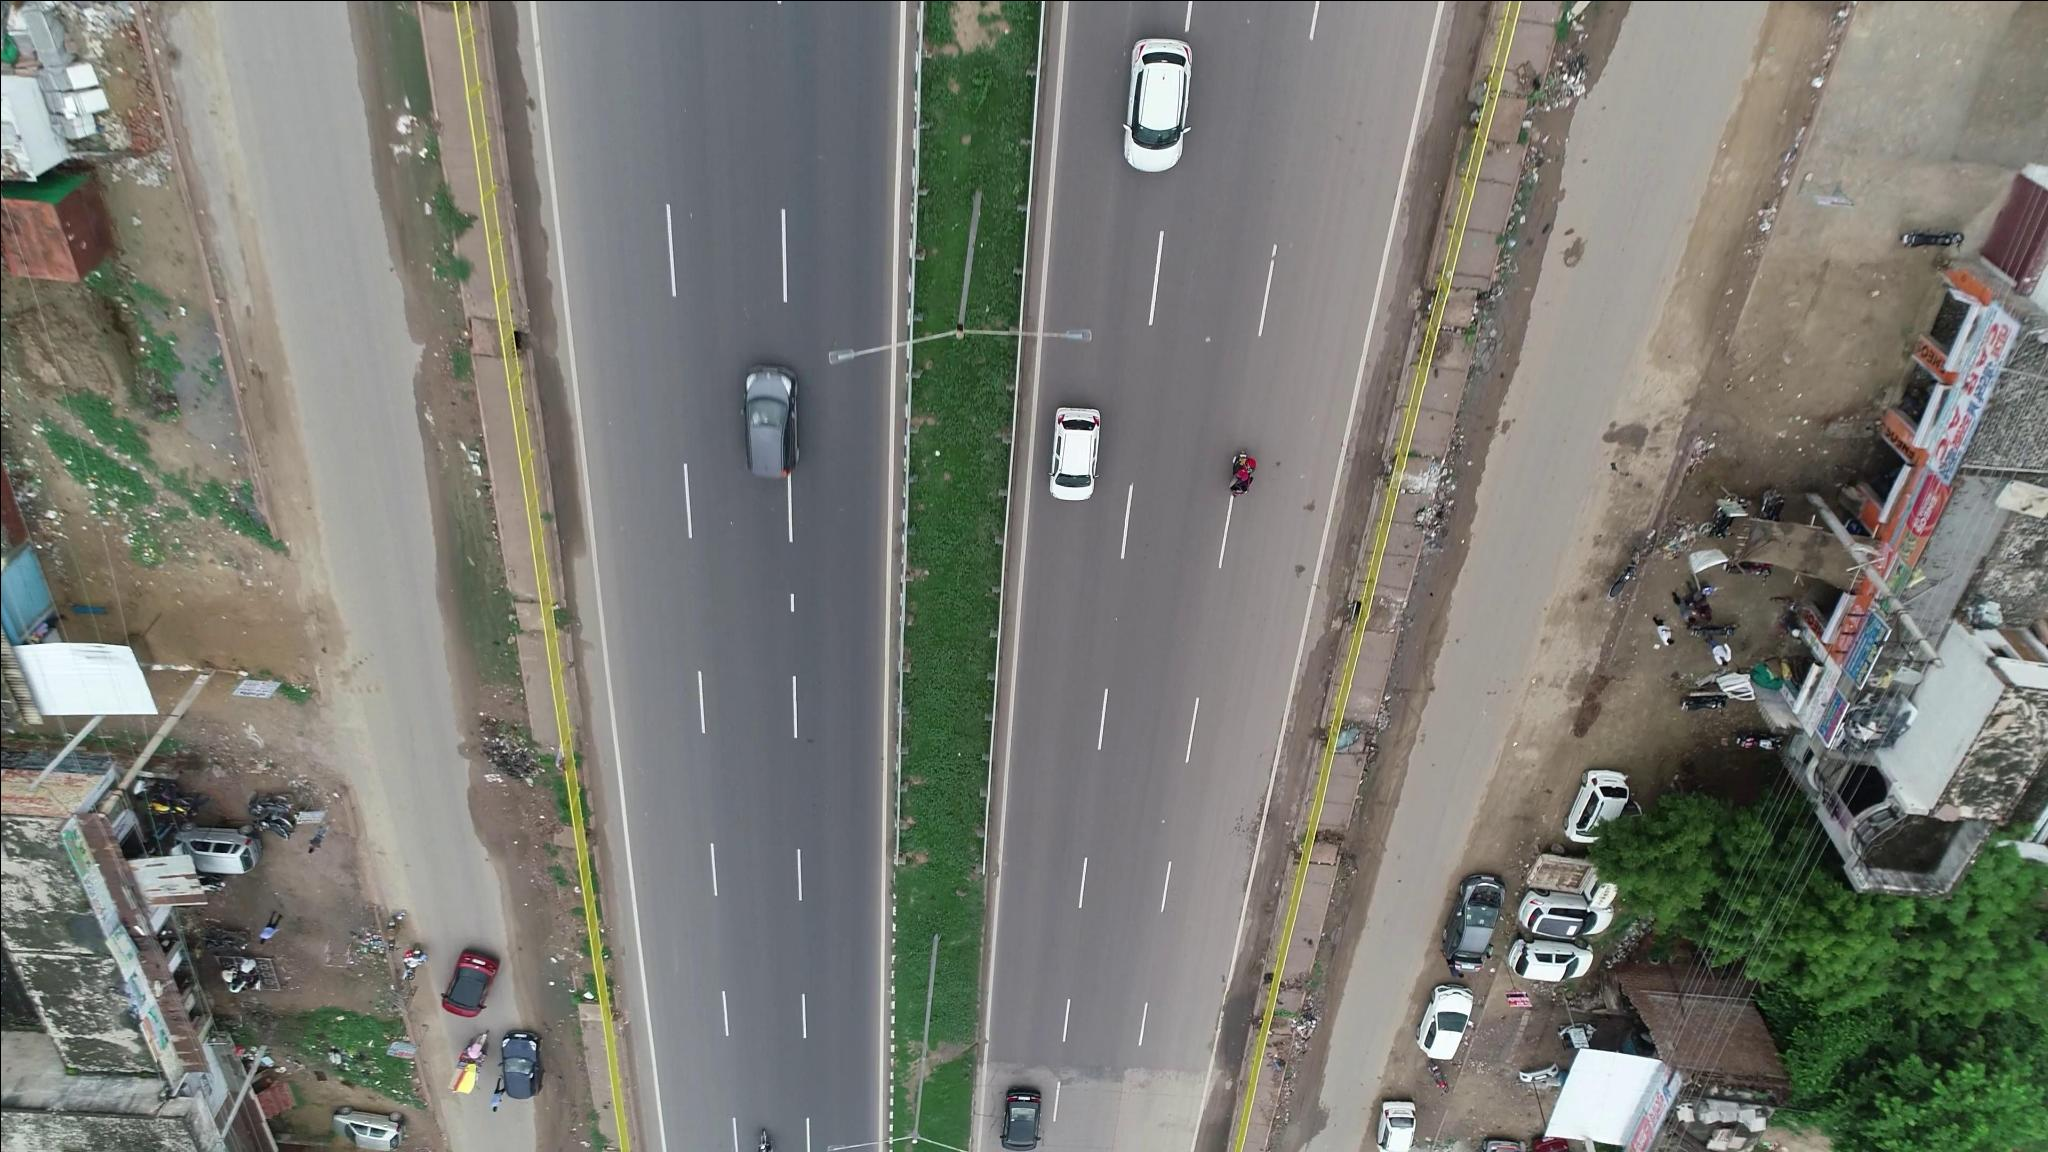Muddy_road: (408, 407, 501, 671)
